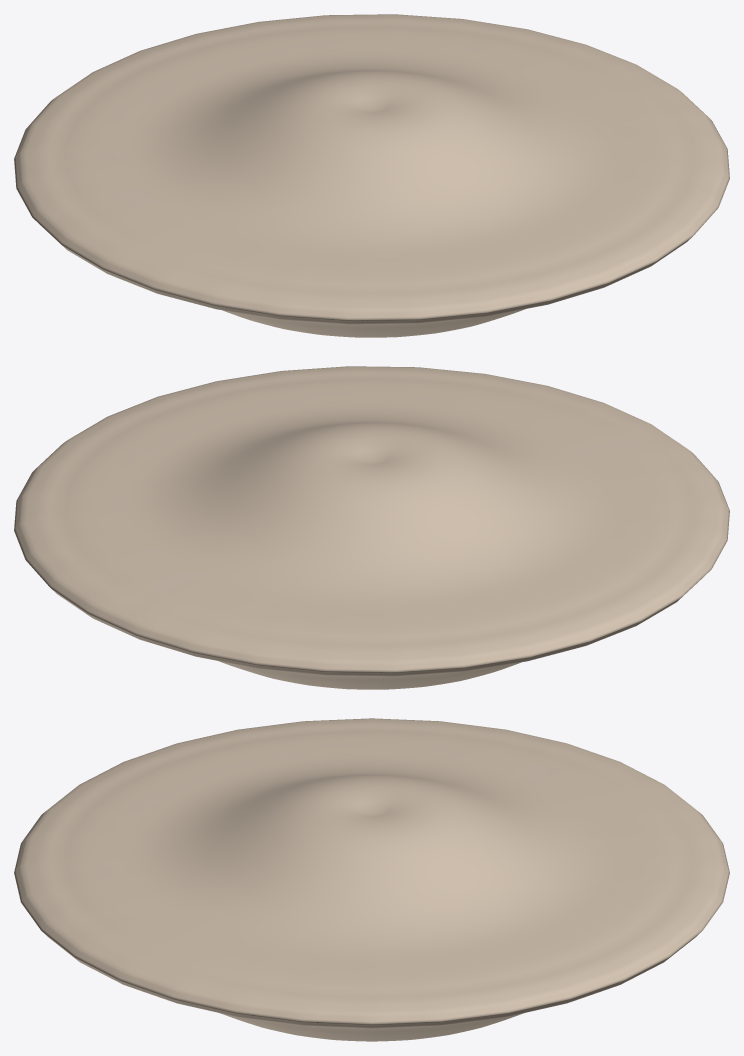
The model's file is homojencamur.fbx.
The picture shows the model from 3 angles, top to bottom: view 1: azimuth 30°, elevation 25°; view 2: azimuth 150°, elevation 25°; view 3: azimuth 270°, elevation 25°; orthographic projection.
Visible parts, largest first — view 1: MudBlob; view 2: MudBlob; view 3: MudBlob.
Boxes of the visible parts, x1,y1,x2,y2 form: MudBlob: (14,14,729,337); MudBlob: (14,366,729,689); MudBlob: (14,718,729,1041).
Bounding box in the file's own units: 4 × 1.43 × 4.
